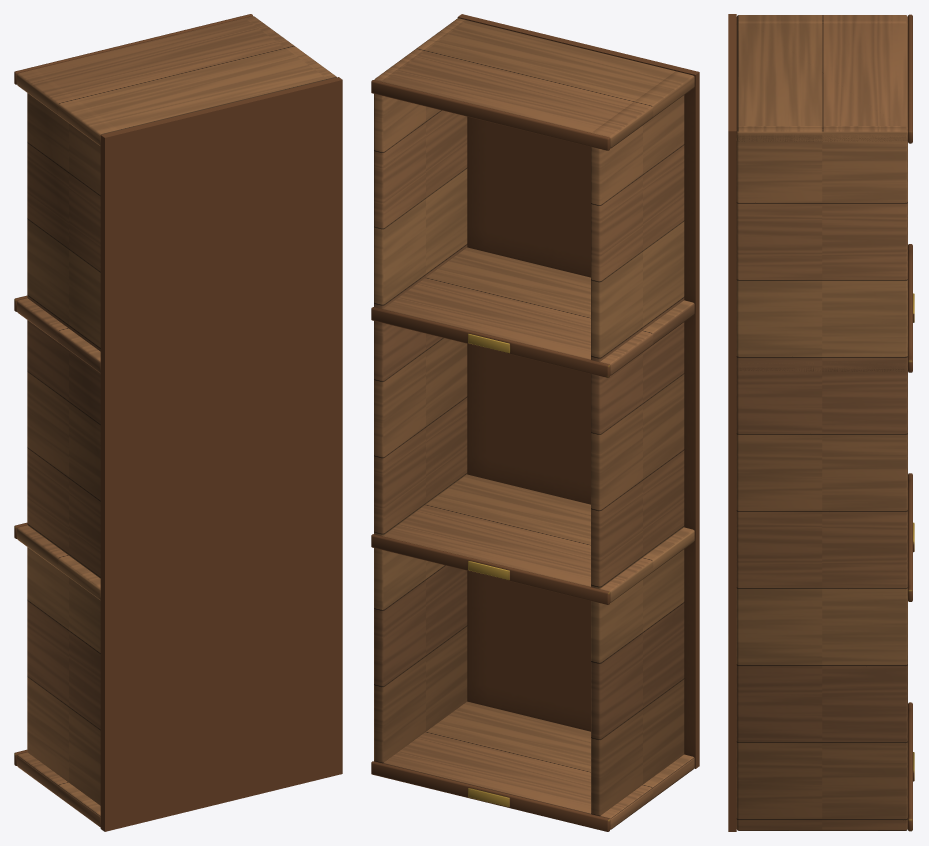
Rendered from itemshelf_1x3.fbx.
3 renders of one model, left to right at view 1: azimuth 30°, elevation 25°; view 2: azimuth 150°, elevation 25°; view 3: azimuth 270°, elevation 25°, orthographic.
Parts seen in each view (by area): view 1: itemshelf_1x3; view 2: itemshelf_1x3; view 3: itemshelf_1x3.
Part boxes in pixels (left/top/right/bottom): itemshelf_1x3: left=14, top=14, right=342, bottom=831; itemshelf_1x3: left=371, top=14, right=699, bottom=831; itemshelf_1x3: left=728, top=14, right=914, bottom=831.
Size of the model in its own units: 0.68 by 1.9 by 0.456.
